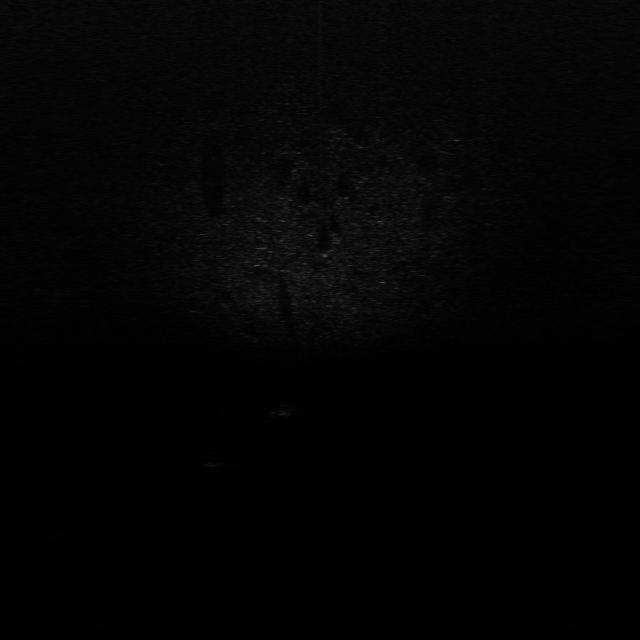ball: (197, 452, 227, 471)
human body: (264, 400, 302, 422)
